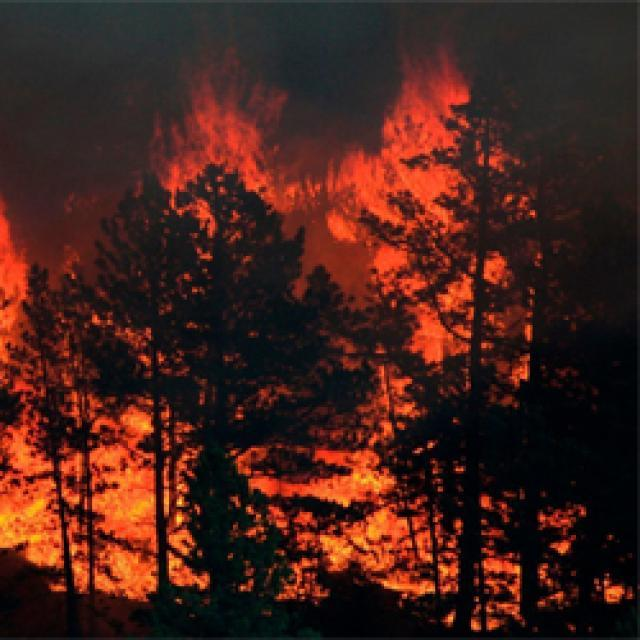Fire: (318, 36, 534, 640), (129, 22, 314, 252), (55, 246, 160, 600), (0, 190, 47, 560), (230, 445, 316, 600), (166, 412, 208, 590), (530, 498, 582, 614), (597, 562, 639, 602)
